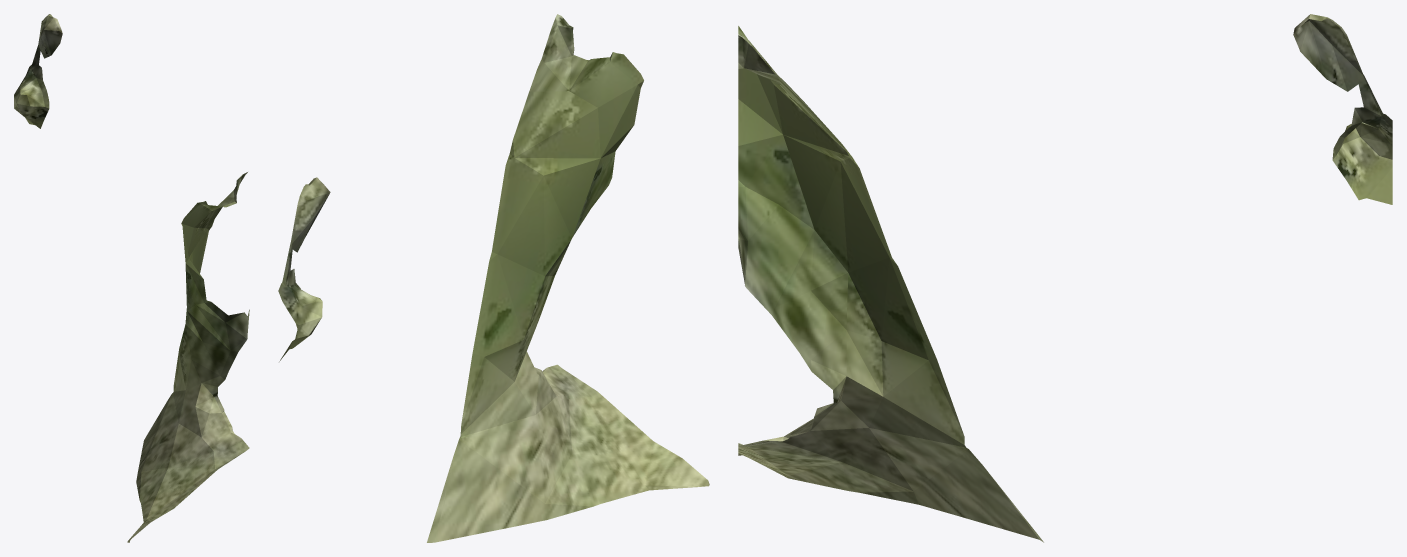
3 views of the same model, side by side, from view 1: azimuth 30°, elevation 25°; view 2: azimuth 150°, elevation 25°; view 3: azimuth 270°, elevation 25° (orthographic). The views are drawn at different scales.
Bounding box in the file's own units: 1.87 × 5.24 × 5.9.
1 material, 1 textured.
